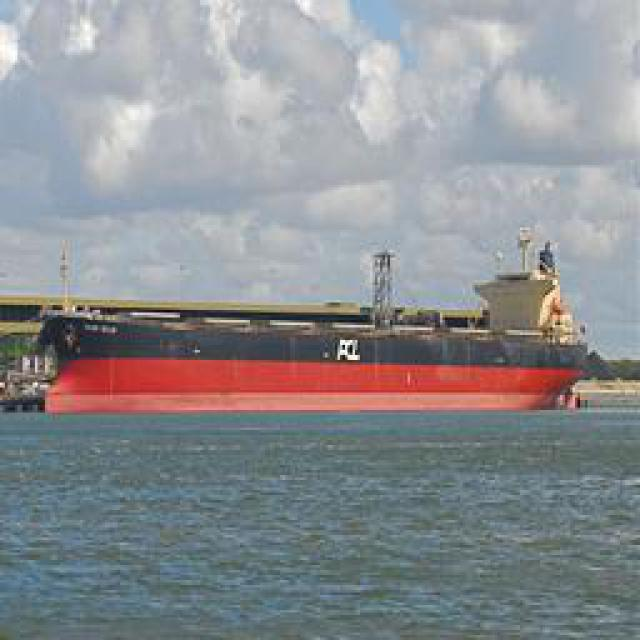Ship: (34, 239, 587, 412)
